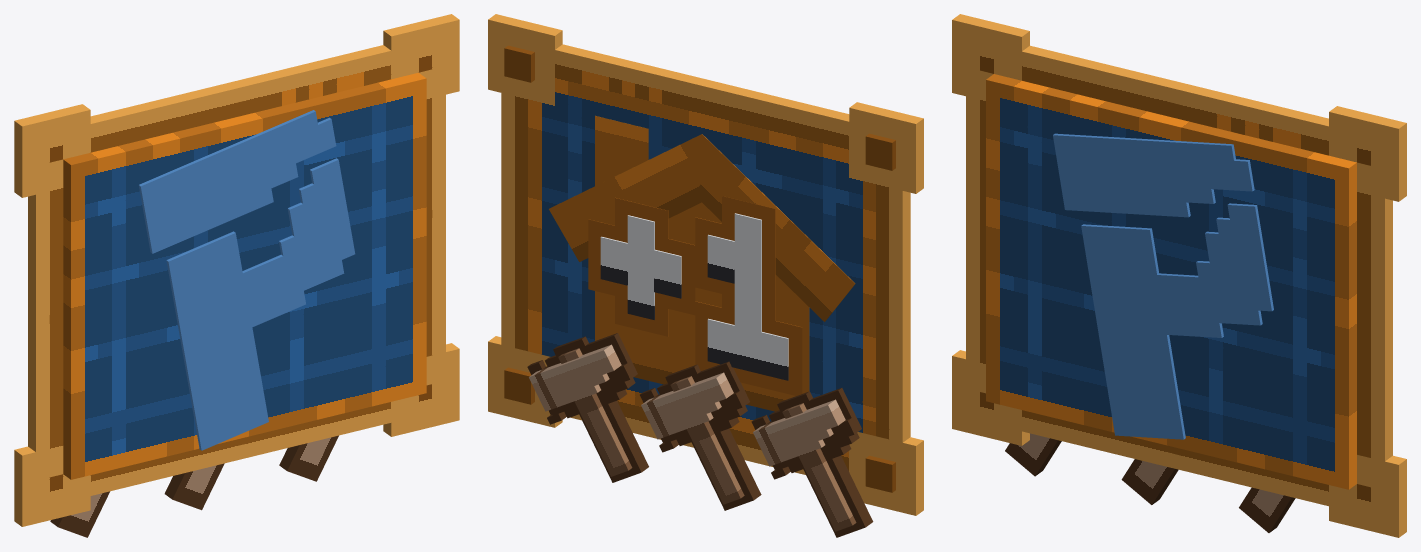
3 renders of one model, left to right at view 1: azimuth 30°, elevation 25°; view 2: azimuth 150°, elevation 25°; view 3: azimuth 330°, elevation 25°, orthographic. The views are drawn at different scales.
Visible parts, largest first — view 1: plan-Local, backp-Local, skull01-Local, skull02-Local, skull3$$(1)-Local; view 2: plan-Local, icon_border-Local, icon-Local, house_body-Local, skull3$$(1)-Local, skull02-Local, skull01-Local, house_roof_2-Local, house_roof_1-Local, dots-Local; view 3: plan-Local, backp-Local, skull01-Local, skull02-Local, skull3$$(1)-Local.
Boxes of the visible parts, x1=… form: plan-Local: x1=14, y1=14, x2=459, y2=526; backp-Local: x1=138, y1=110, x2=355, y2=450; skull01-Local: x1=164, y1=463, x2=224, y2=510; skull02-Local: x1=279, y1=435, x2=338, y2=481; skull3$$(1)-Local: x1=50, y1=491, x2=109, y2=537; plan-Local: x1=488, y1=14, x2=923, y2=515; icon_border-Local: x1=588, y1=196, x2=802, y2=395; icon-Local: x1=600, y1=213, x2=788, y2=380; house_body-Local: x1=595, y1=115, x2=809, y2=411; skull3$$(1)-Local: x1=751, y1=388, x2=873, y2=537; skull02-Local: x1=527, y1=333, x2=648, y2=482; skull01-Local: x1=640, y1=361, x2=761, y2=510; house_roof_2-Local: x1=687, y1=134, x2=855, y2=321; house_roof_1-Local: x1=549, y1=134, x2=708, y2=261; dots-Local: x1=504, y1=45, x2=895, y2=492; plan-Local: x1=952, y1=14, x2=1406, y2=537; backp-Local: x1=1053, y1=133, x2=1273, y2=439; skull01-Local: x1=1121, y1=459, x2=1178, y2=504; skull02-Local: x1=1239, y1=487, x2=1295, y2=532; skull3$$(1)-Local: x1=1005, y1=433, x2=1061, y2=476.
Bounding box in the file's own units: 64 × 60.86 × 7.52.
Materials: 11 (11 with a texture image).
